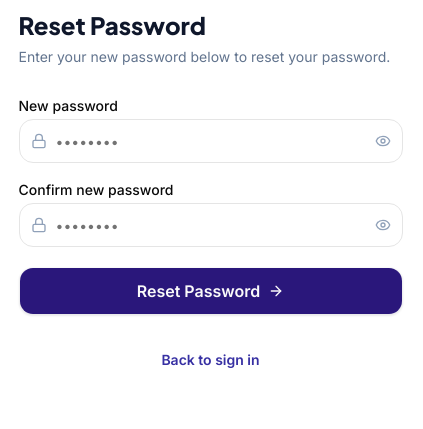
ResetPasswordForm › Client-side validation › shows an error when the new password is empty
The image size is (423, 429).
Click the button "Reset Password": point(210, 291) x1=18 y1=267 x2=402 y2=315
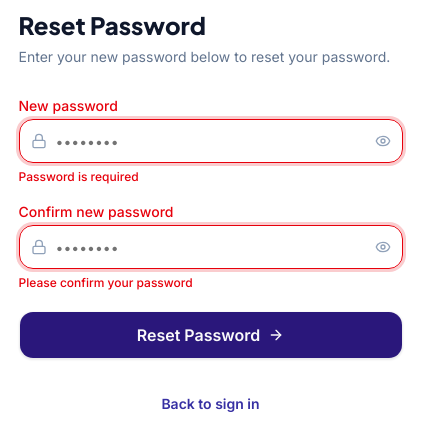
Result: the text "Password is required" is shown at x1=18 y1=169 x2=139 y2=184
